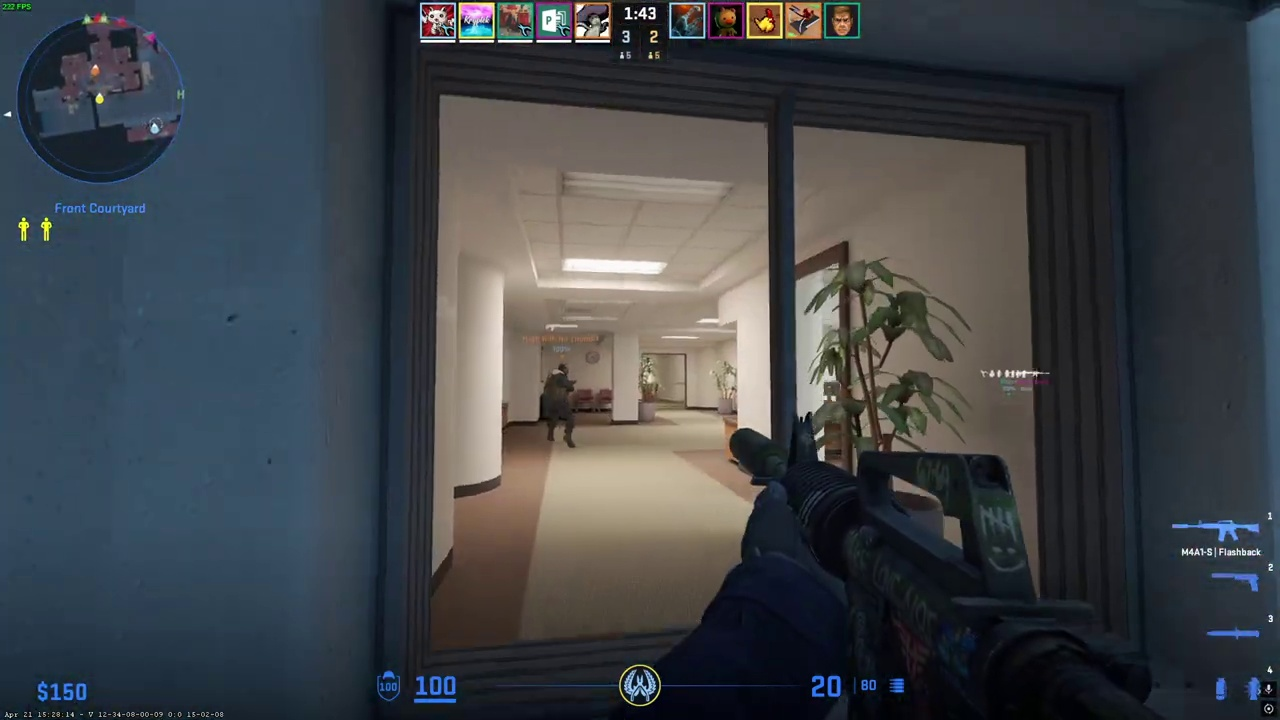CT: (544, 364, 576, 448)
